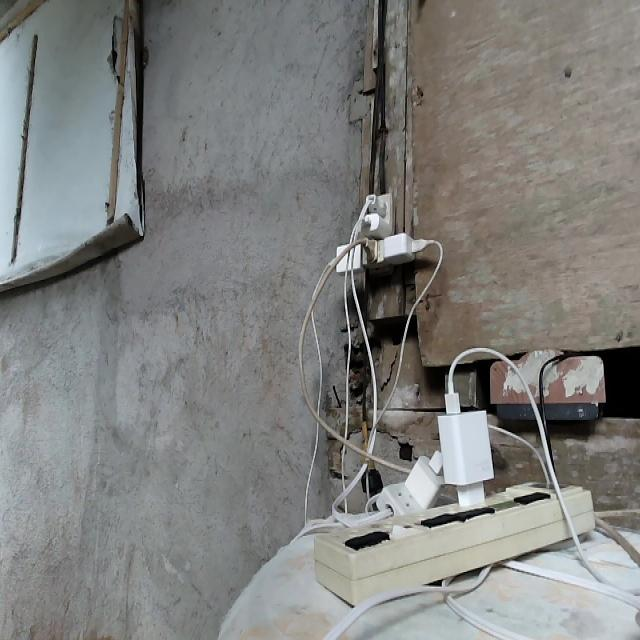-: (324, 185, 429, 276)
